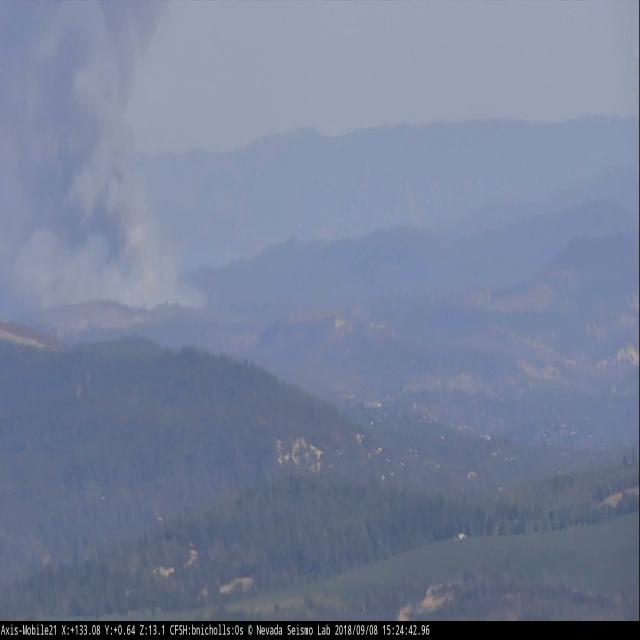smoke: (0, 0, 210, 318)
